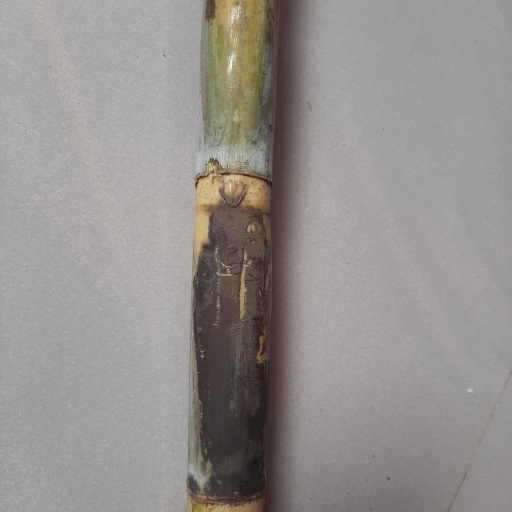Bud: (218, 177, 249, 208)
